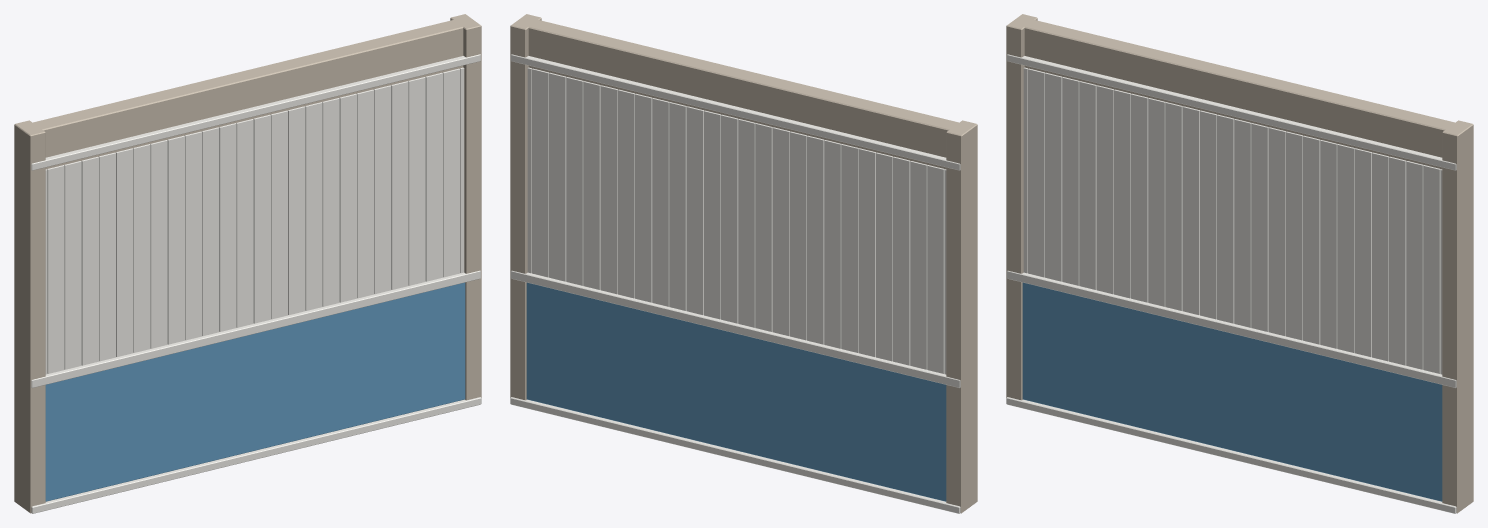
The model's file is amusement-arcade-and-seaside-pier-arcade-wall-module-af720782__35417.glb.
3 views of the same model, side by side, from view 1: azimuth 30°, elevation 25°; view 2: azimuth 150°, elevation 25°; view 3: azimuth 330°, elevation 25° (orthographic).
Parts seen in each view (by area): view 1: arcade-wall-module; view 2: arcade-wall-module; view 3: arcade-wall-module.
Part boxes in pixels (bbox=[...]): arcade-wall-module: bbox=[14, 14, 481, 513]; arcade-wall-module: bbox=[510, 14, 977, 513]; arcade-wall-module: bbox=[1006, 14, 1473, 513].
Bounding box in the file's own units: 4 × 3.2 × 0.2799.
